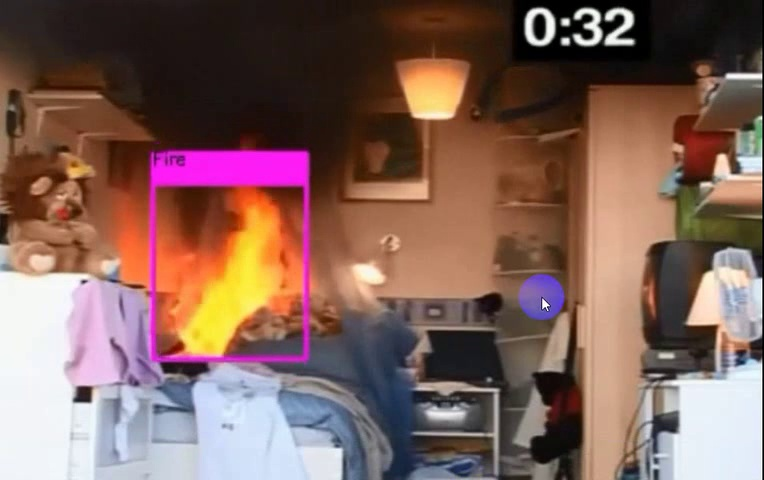fire: (166, 185, 293, 357)
